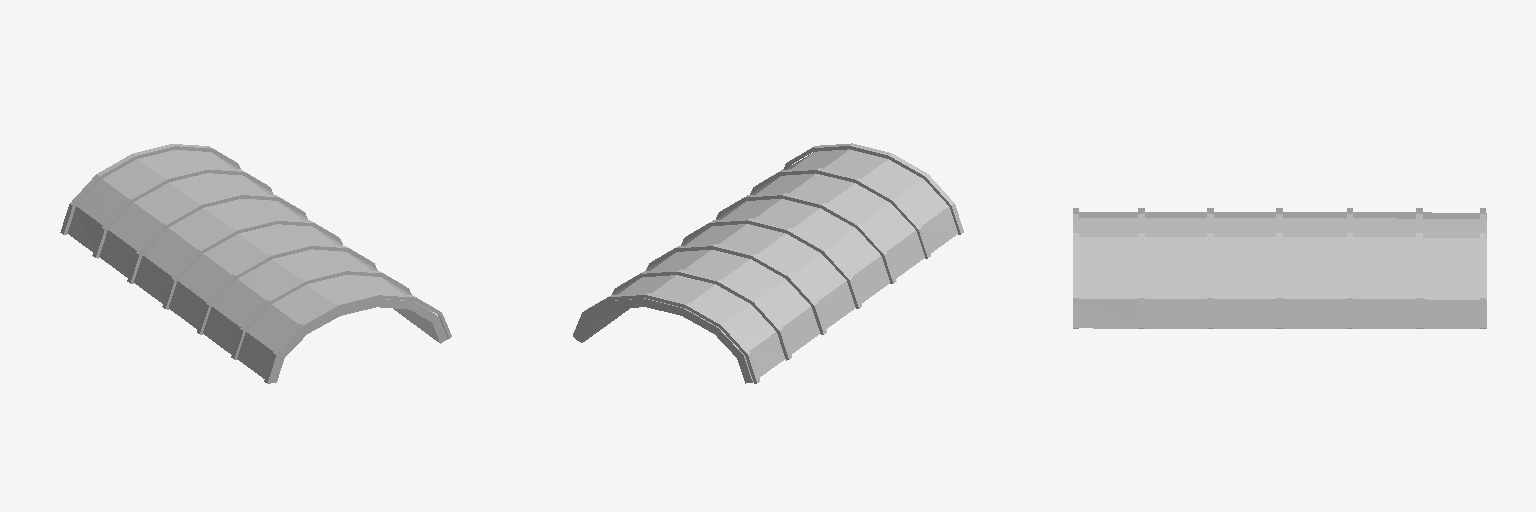
File: roofLP.obj
The picture shows the model from 3 angles: view 1: azimuth 30°, elevation 25°; view 2: azimuth 150°, elevation 25°; view 3: azimuth 270°, elevation 25°; orthographic projection.
Visible parts, largest first — view 1: roofLP5:default1 polySurface1, roofLP5:default1 polySurface2, roofLP5:default1 polySurface19, roofLP5:default1 polySurface18, roofLP5:default1 polySurface17, roofLP5:default1 polySurface21, roofLP5:default1 polySurface20, polySurface9 roofLP5:default1; view 2: roofLP5:default1 polySurface1, roofLP5:default1 polySurface18, roofLP5:default1 polySurface19, roofLP5:default1 polySurface17, roofLP5:default1 polySurface21, roofLP5:default1 polySurface20, roofLP5:default1 polySurface2, polySurface9 roofLP5:default1; view 3: roofLP5:default1 polySurface1, polySurface9 roofLP5:default1, roofLP5:default1 polySurface17, roofLP5:default1 polySurface21, roofLP5:default1 polySurface20, roofLP5:default1 polySurface19, roofLP5:default1 polySurface18, roofLP5:default1 polySurface2.
Part boxes in pixels (x1,y1,x2,y2): roofLP5:default1 polySurface1: (67, 150, 447, 382); roofLP5:default1 polySurface2: (264, 293, 451, 383); roofLP5:default1 polySurface19: (127, 193, 307, 283); roofLP5:default1 polySurface18: (60, 144, 240, 234); roofLP5:default1 polySurface17: (92, 167, 272, 258); roofLP5:default1 polySurface21: (162, 218, 342, 309); roofLP5:default1 polySurface20: (197, 243, 377, 334); polySurface9 roofLP5:default1: (231, 269, 411, 359); roofLP5:default1 polySurface1: (575, 149, 957, 383); roofLP5:default1 polySurface18: (573, 292, 759, 383); roofLP5:default1 polySurface19: (646, 244, 826, 334); roofLP5:default1 polySurface17: (612, 269, 791, 360); roofLP5:default1 polySurface21: (681, 218, 861, 308); roofLP5:default1 polySurface20: (716, 193, 896, 283); roofLP5:default1 polySurface2: (783, 143, 963, 234); polySurface9 roofLP5:default1: (750, 168, 930, 258); roofLP5:default1 polySurface1: (1079, 212, 1486, 328); polySurface9 roofLP5:default1: (1138, 208, 1144, 328); roofLP5:default1 polySurface17: (1416, 208, 1422, 328); roofLP5:default1 polySurface21: (1276, 208, 1282, 328); roofLP5:default1 polySurface20: (1207, 208, 1213, 328); roofLP5:default1 polySurface19: (1347, 208, 1352, 328); roofLP5:default1 polySurface18: (1480, 208, 1485, 328); roofLP5:default1 polySurface2: (1073, 208, 1078, 328).
Size of the model in its own units: 9.5 by 3.14 by 18.46.